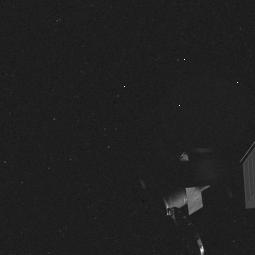cheops: (131, 144, 255, 254)
